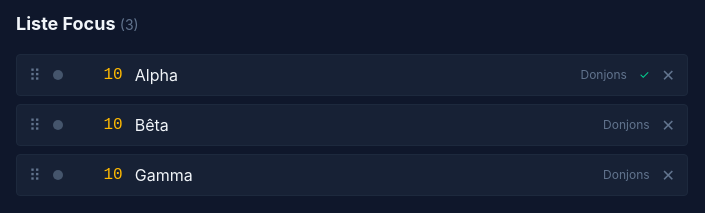
Test: FocusView › removes a goal and reloads
The width and height of the screenshot is (705, 213).
Expected: the button "Alpha" is shown, [135,63,568,87]
Click the 1st button titled "Retirer du focus". click: (668, 75)
box: [662,63,675,87]
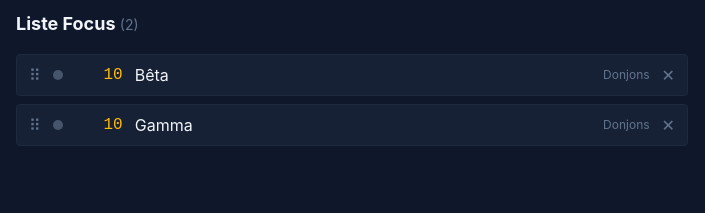
Expected: the button "Alpha" is gone
